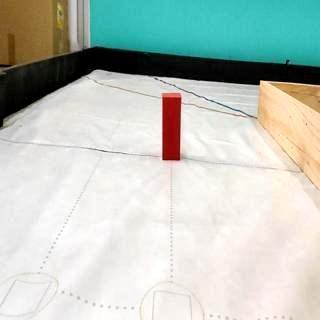redbox: (163, 92, 182, 160)
